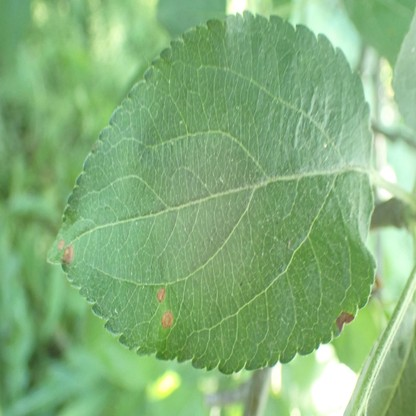frogeye_leaf_spot: (335, 311, 354, 331), (59, 239, 74, 264), (162, 313, 174, 328), (157, 289, 165, 302)
